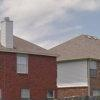Chimney: (1, 11, 20, 54)
